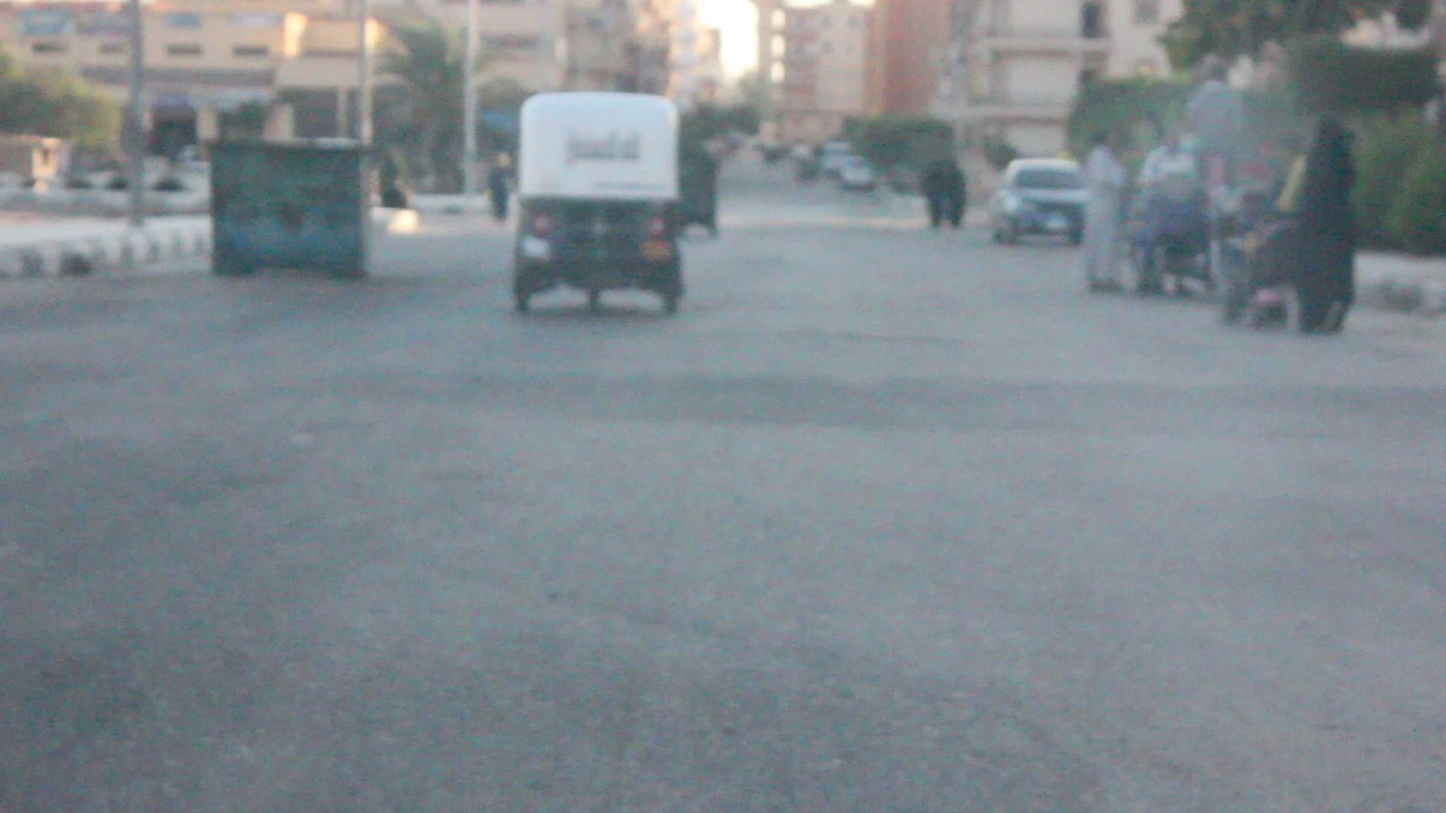Bump: (0, 348, 1446, 427)
